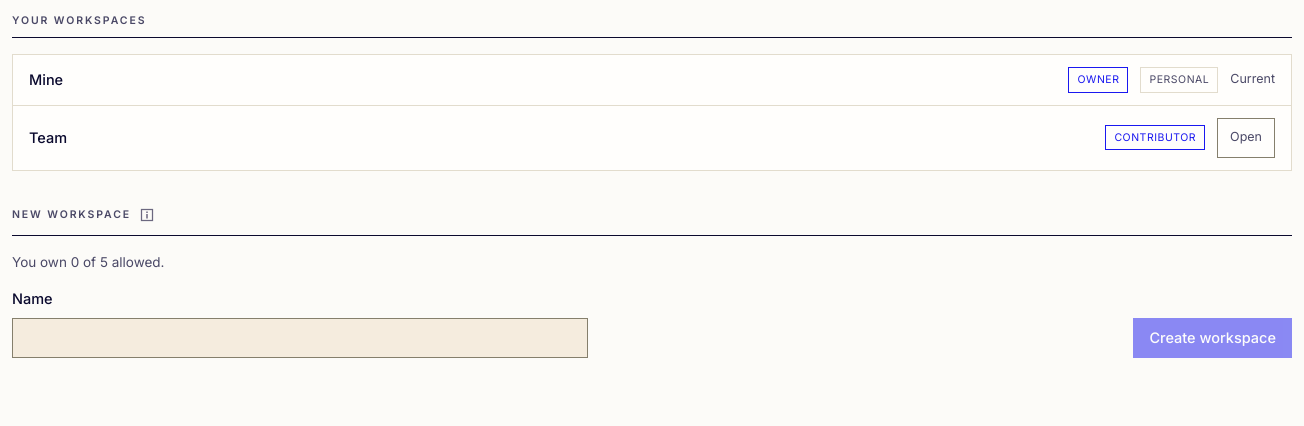
Scenario: shows the code's message in an alert when creating fails
This screenshot has width=1304, height=426.
Type "Alpha" into the field labelled "Name" at (300, 338), box [12, 318, 588, 358]
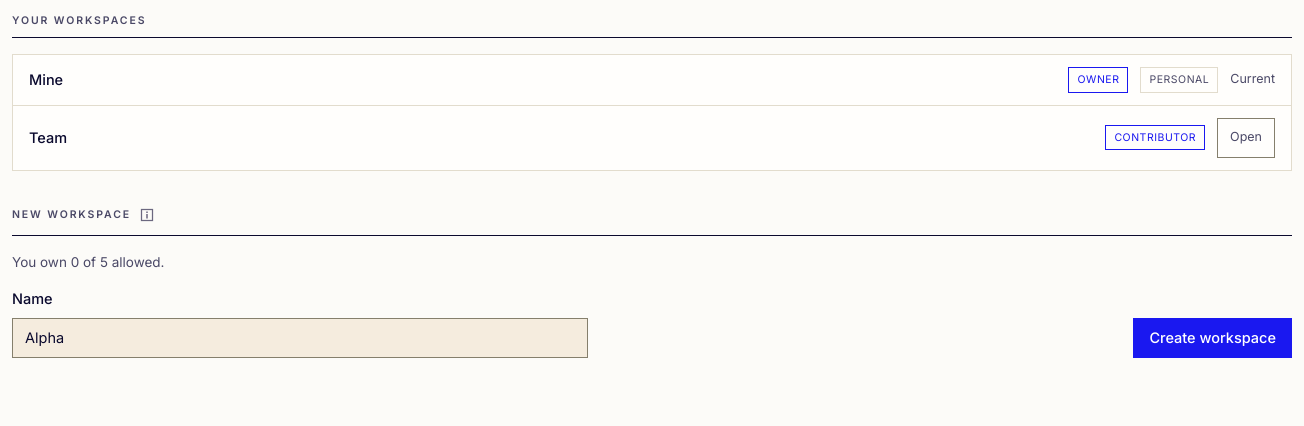
Click the button "Create workspace" at (1213, 338), box [1133, 318, 1292, 358]
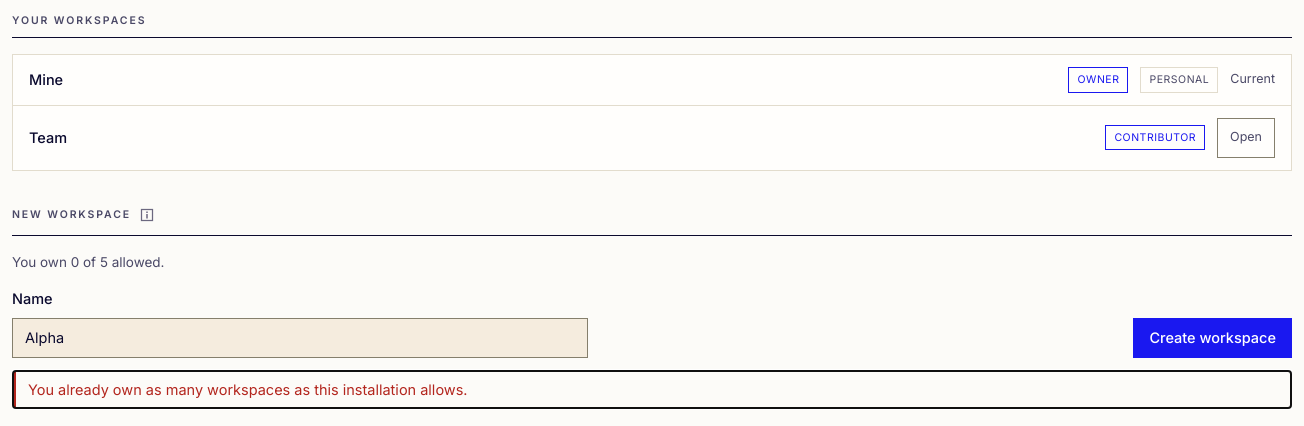
Expected: the message "You already own as many workspaces as this installation allows." is shown, [12, 370, 1292, 409]
